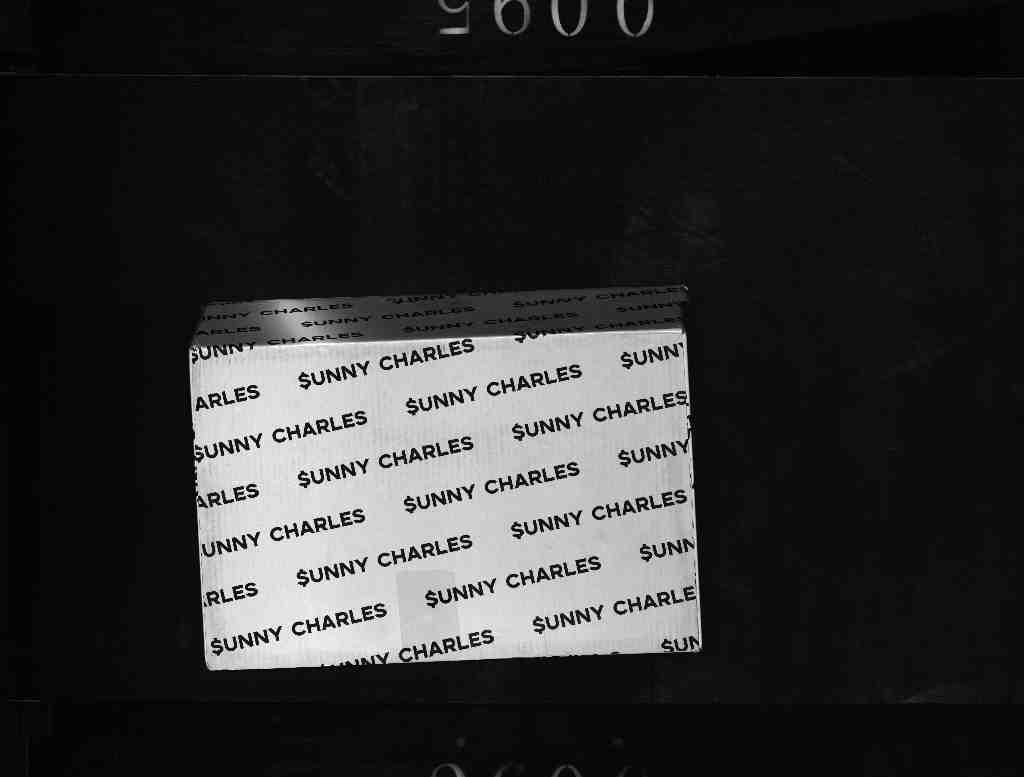box: (166, 279, 705, 663)
